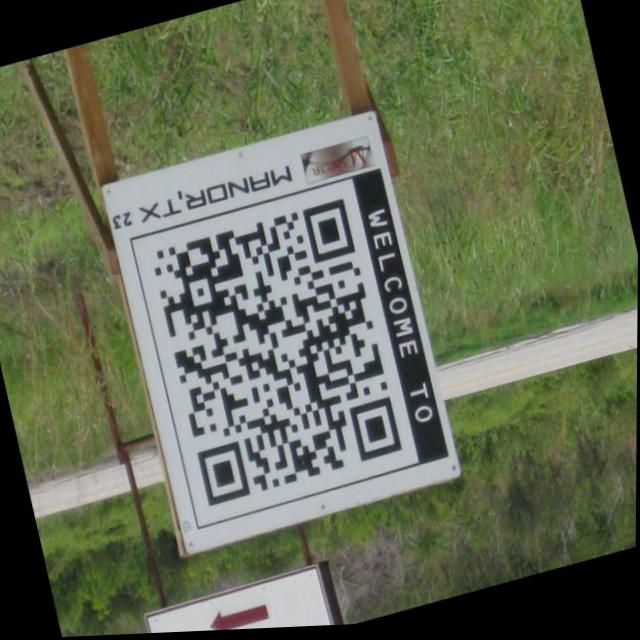qrcode: (150, 200, 405, 510)
